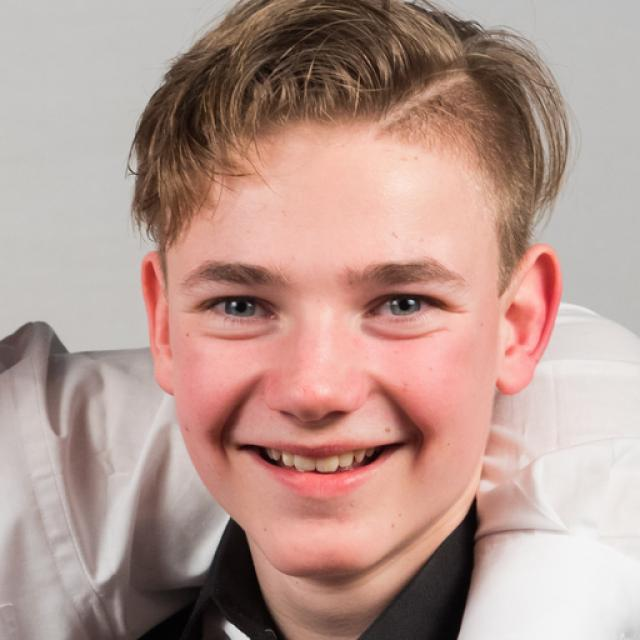happy: (168, 122, 498, 578)
